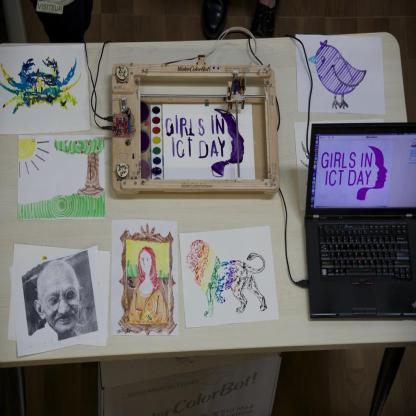board: (304, 122, 416, 320)
